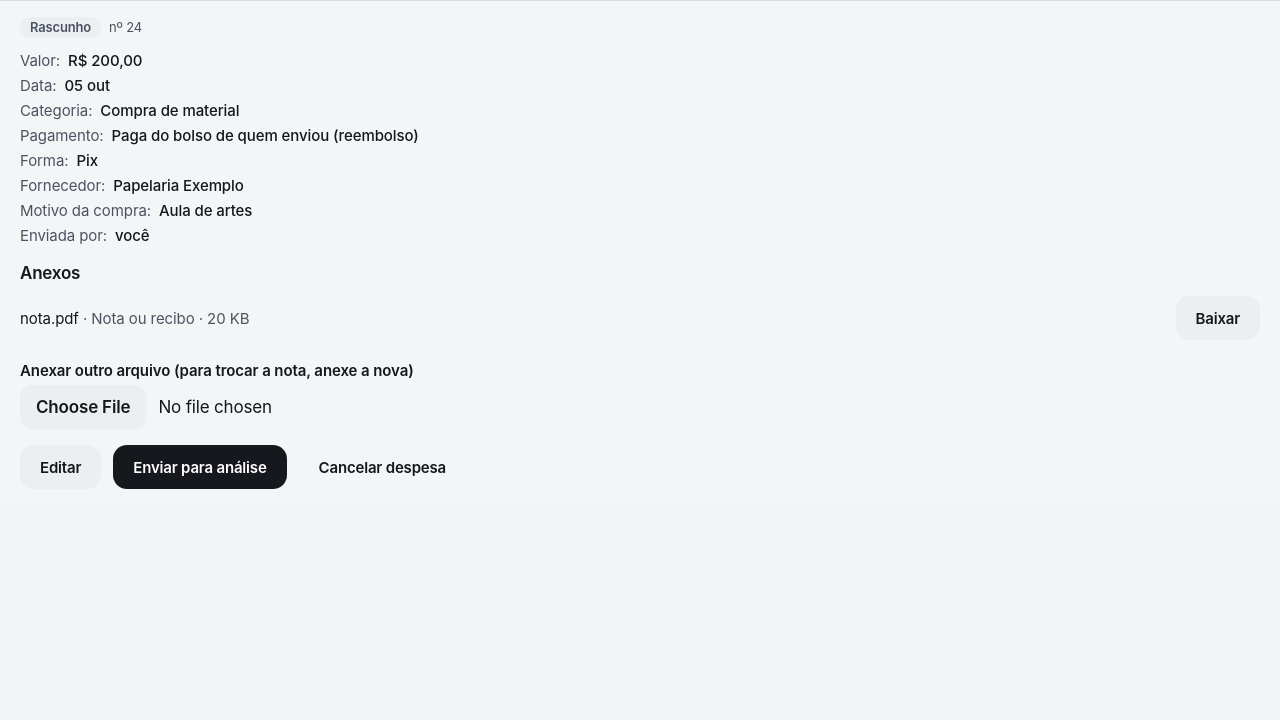
Test: professora (autora) › envia para analise: mostra o que a API devolveu (enviada) e avisa a lista
The width and height of the screenshot is (1280, 720).
Click the button "Enviar para análise" at (200, 467), box [113,445,287,489]
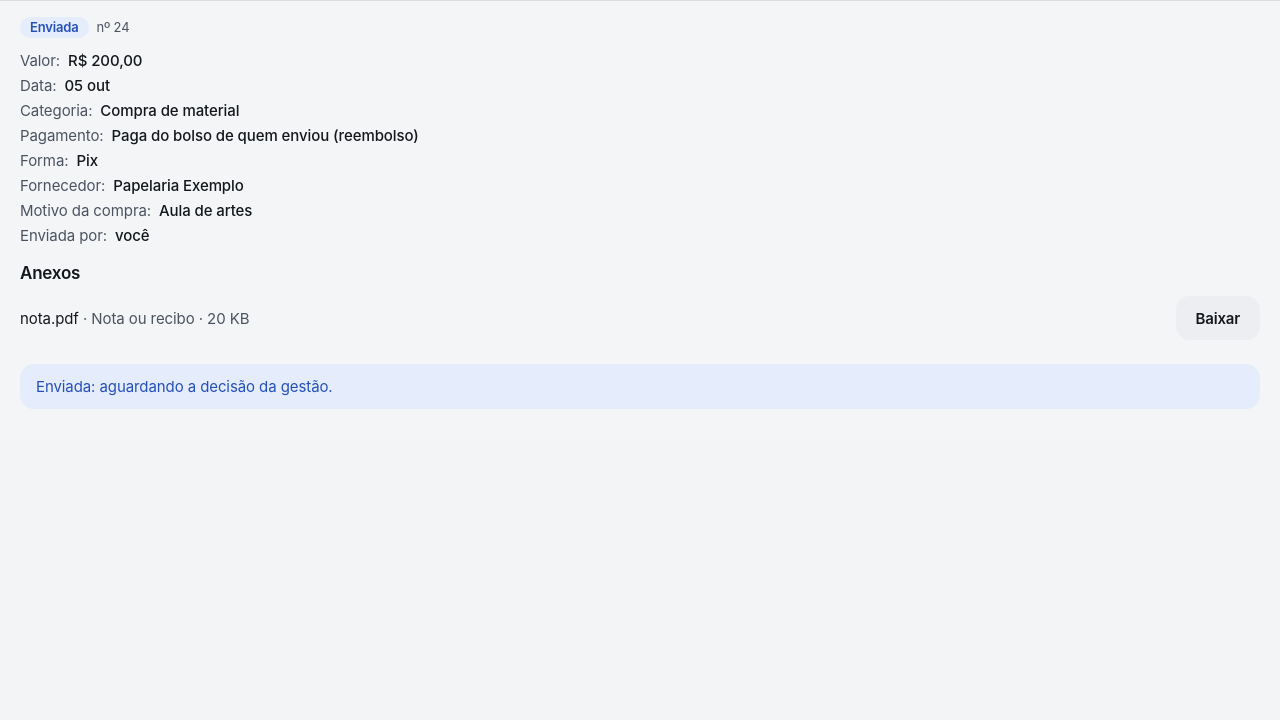
expect the text "Enviada" is shown: met, box [20,17,88,38]
